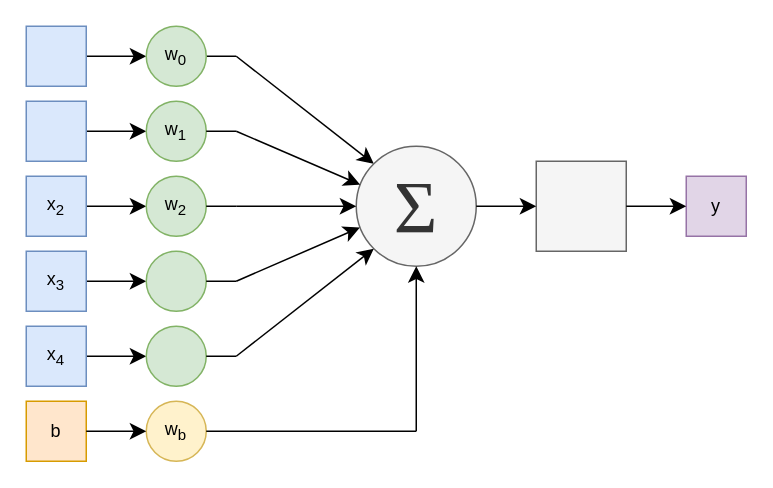
Image size: 773x488. Some labels were removed from this diagram. The shapes that lost their labels are listed below. From the top down, each one's centre as x and y in pixels, then its label:
the point at 55,55: x 0
the point at 55,130: x 1
the point at 580,205: f a
the point at 175,280: w 3
the point at 175,355: w 4
